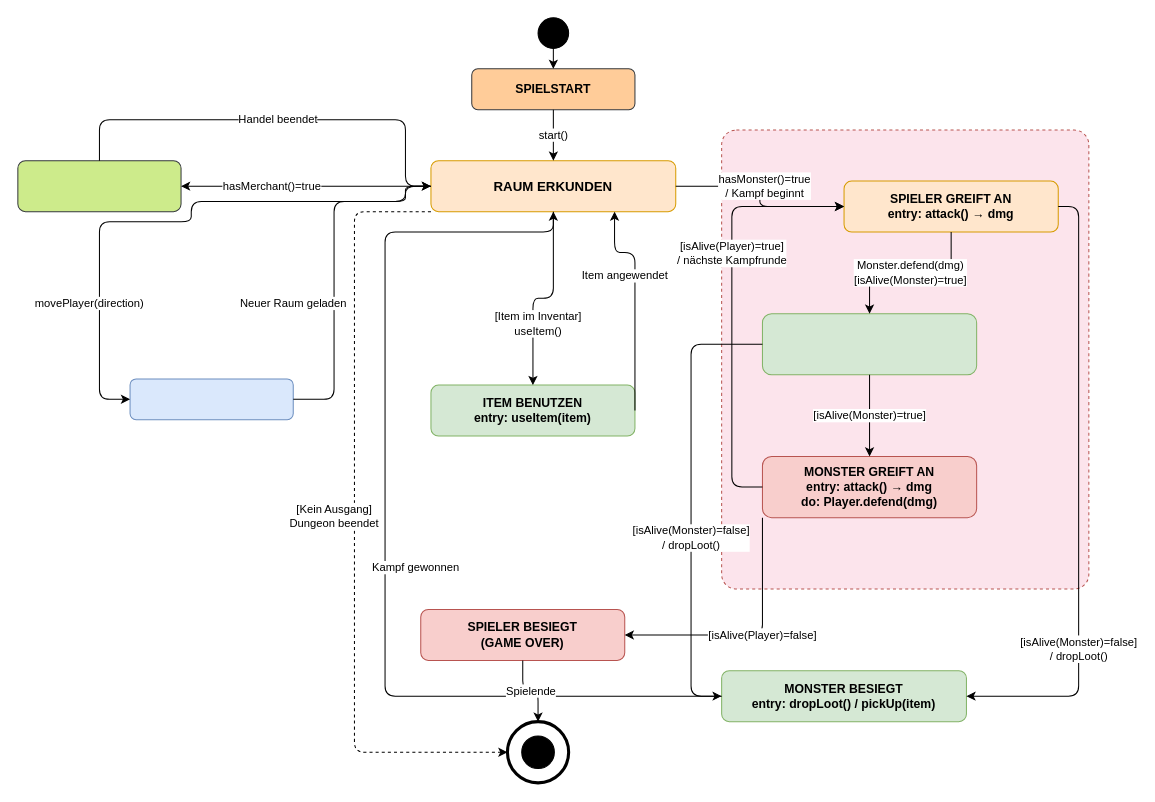
The diagram is 1155 pixels wide and 802 high, and some of its shapes have lost their labels. The shapes that lost their labels are listed below. From the top down, each one's box as (x1, y1, x2, y2) in pixels, then its label:
(17, 160, 181, 212): HÄNDLER INTERAKTION
(761, 313, 977, 375): HEILUNG PRÜFEN do: Monster.defend(dmg) [canHeal()=true → heal()]
(721, 129, 1089, 589): « KAMPF »
(129, 378, 293, 420): RAUM WECHSELN
